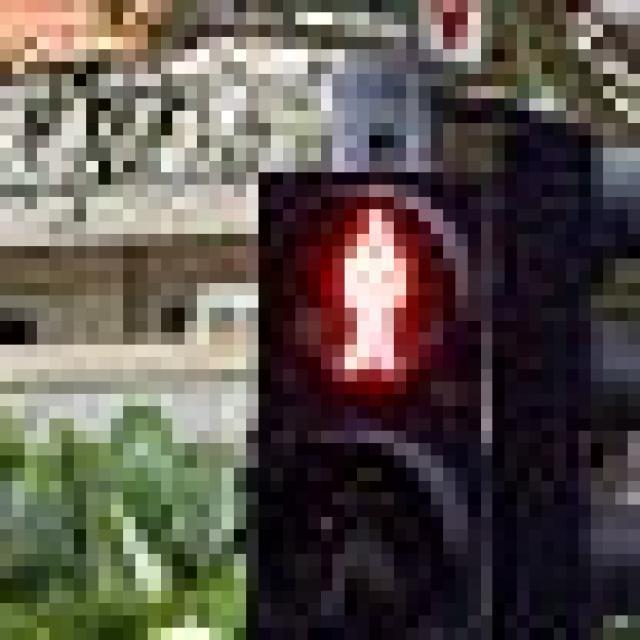red-crossing: (283, 172, 431, 382)
